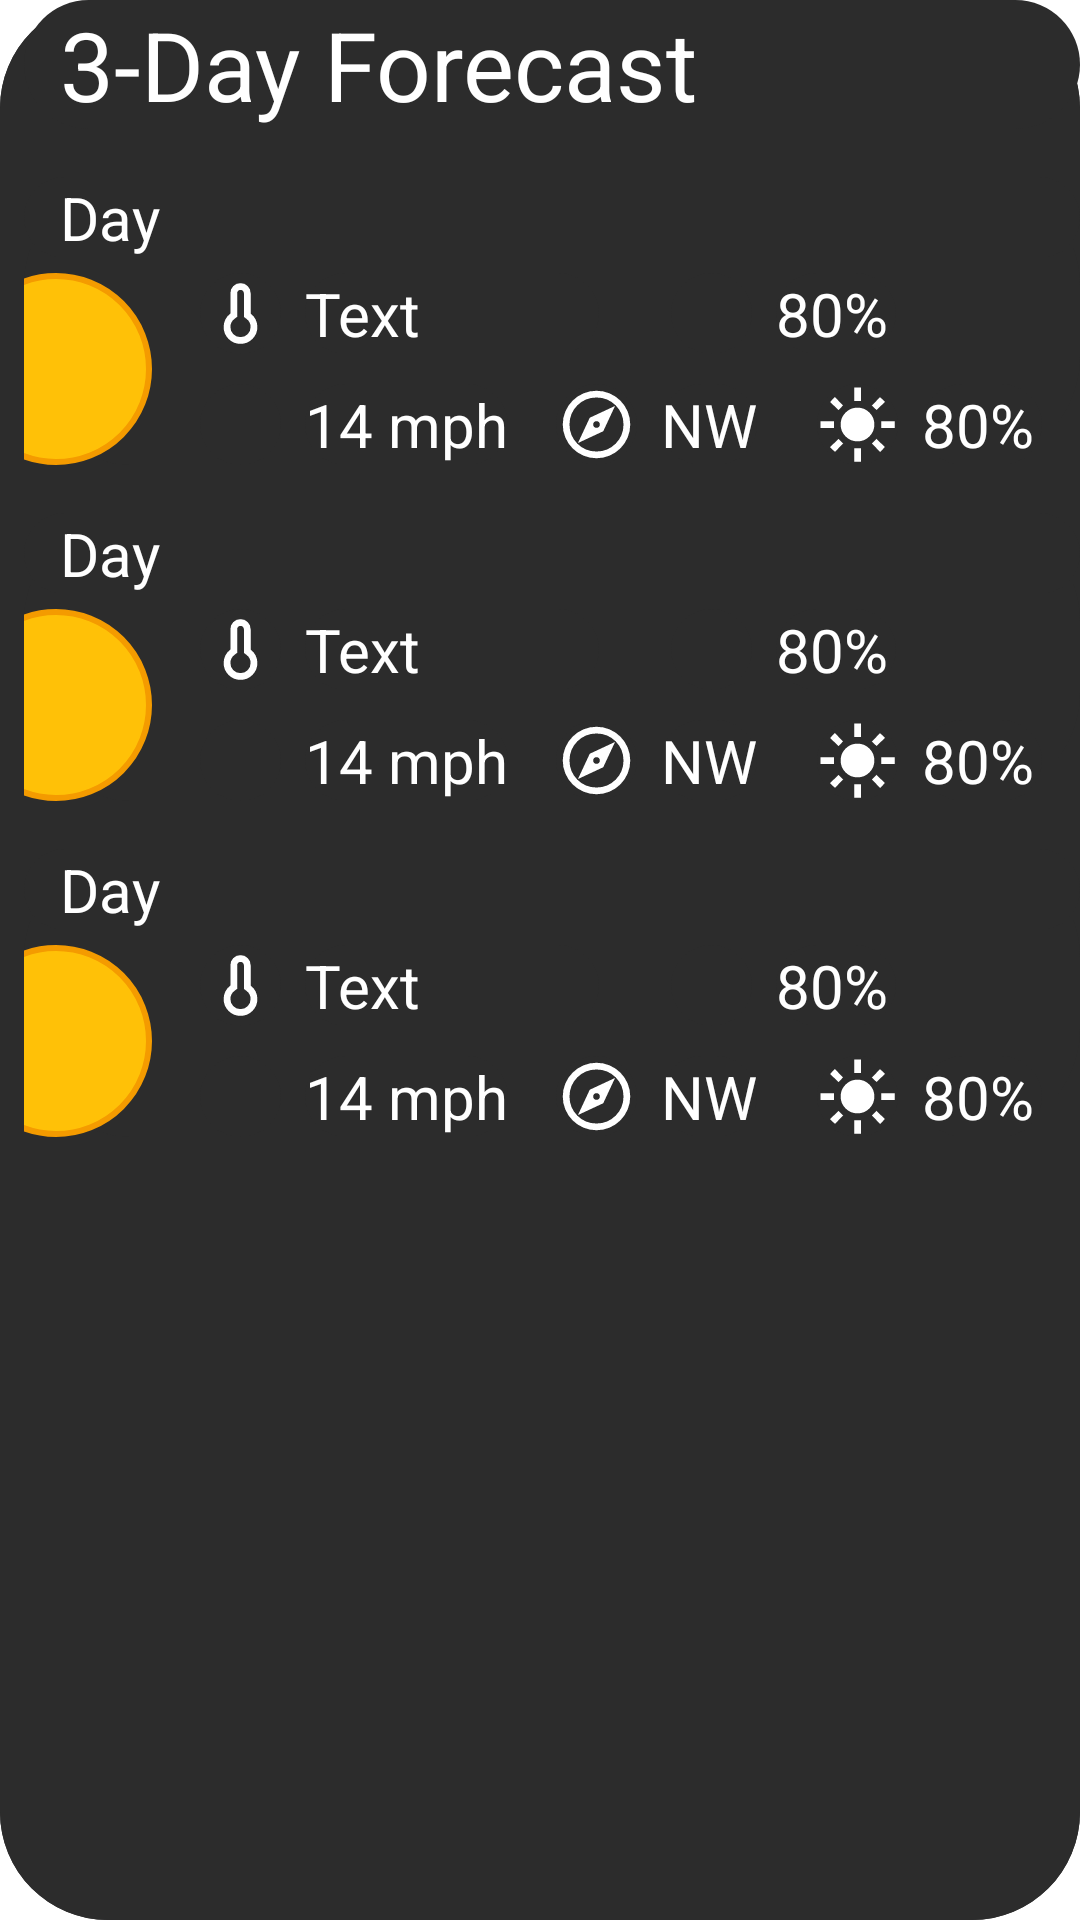

Screen size 1080x1920. Icon name, then its center in pixels as [x,y]:
direction: [596,424], [596,760], [596,1096]
thermometer: [240,313], [240,649], [240,985]
